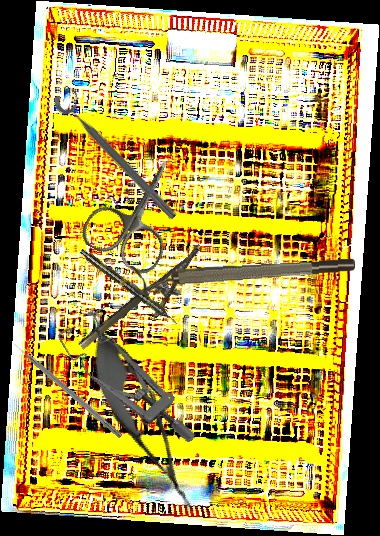Fixation Ring: (50, 83, 187, 224), (128, 254, 357, 296)
Handpiece: (78, 246, 180, 328)
Hook Surgical: (10, 338, 124, 439)
Iris Scissors: (76, 141, 203, 280)
Micro Scissor: (73, 318, 214, 525)
Needle Holder: (77, 243, 218, 367)
Speculum: (54, 296, 199, 473)
